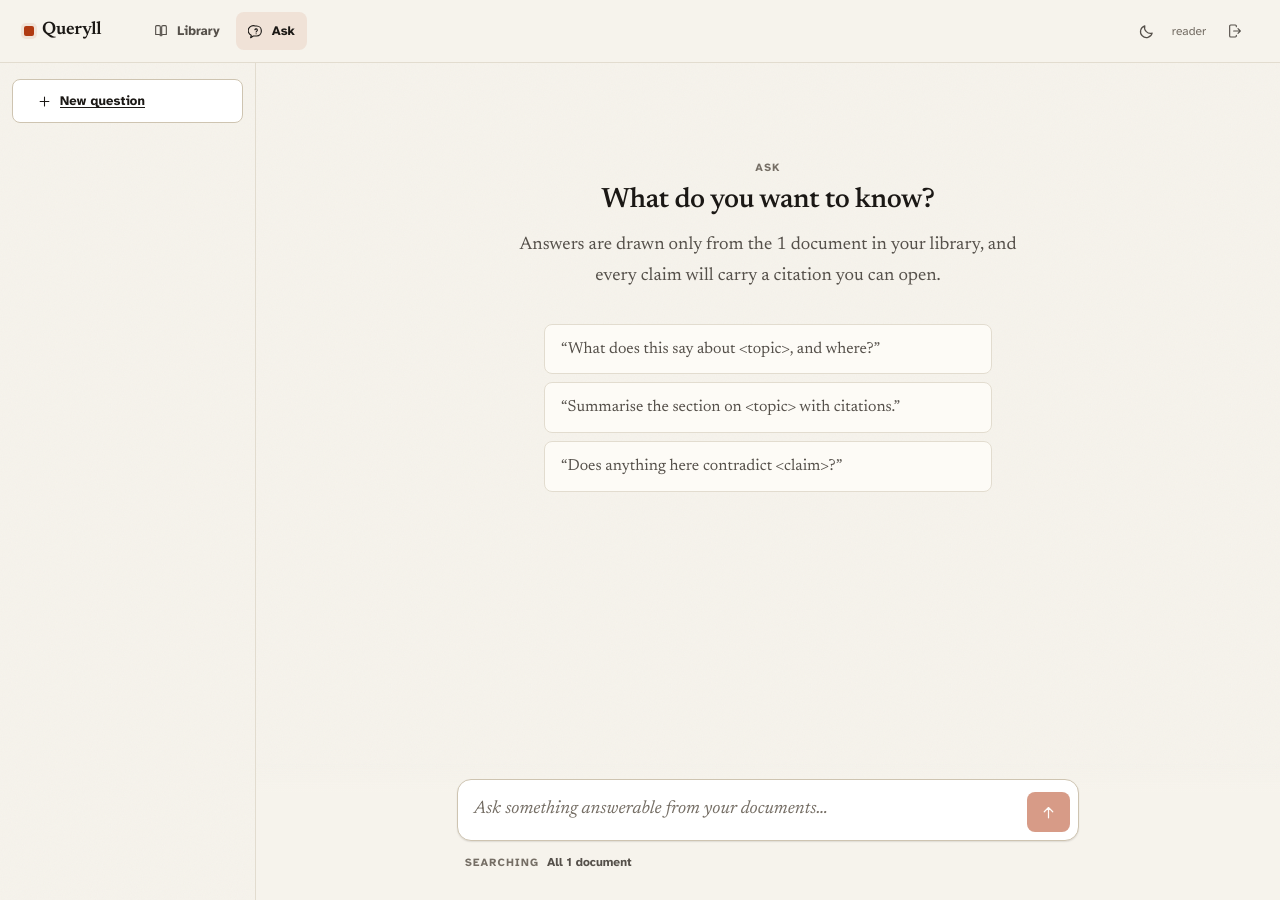
Test case: a half-typed question › survives navigating away and back
Type "What does section 3 say about" into the text box named "Your question" at (743, 810), box [466,788,1019,832]
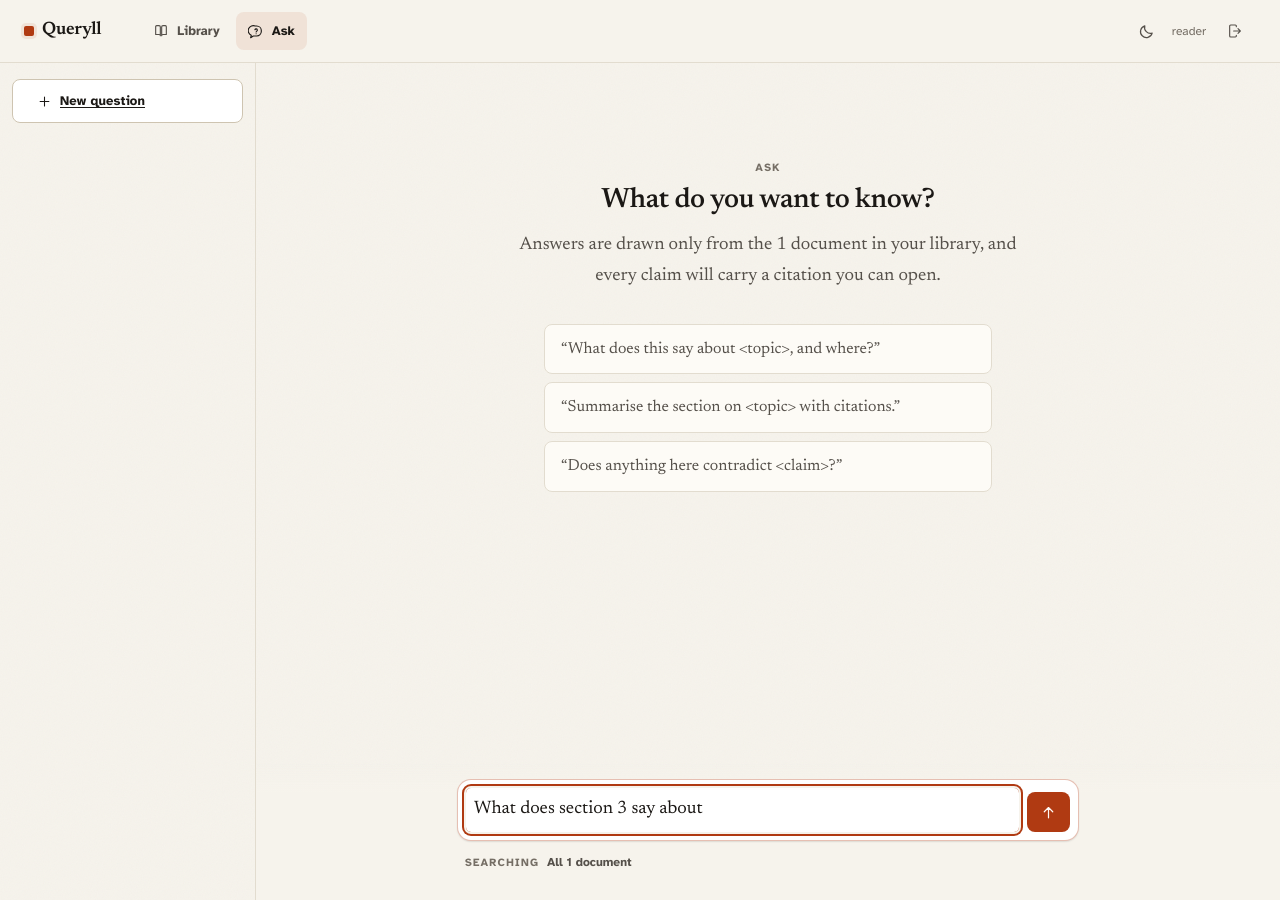
Click the link "Library" at (187, 31), box [153,23,220,39]
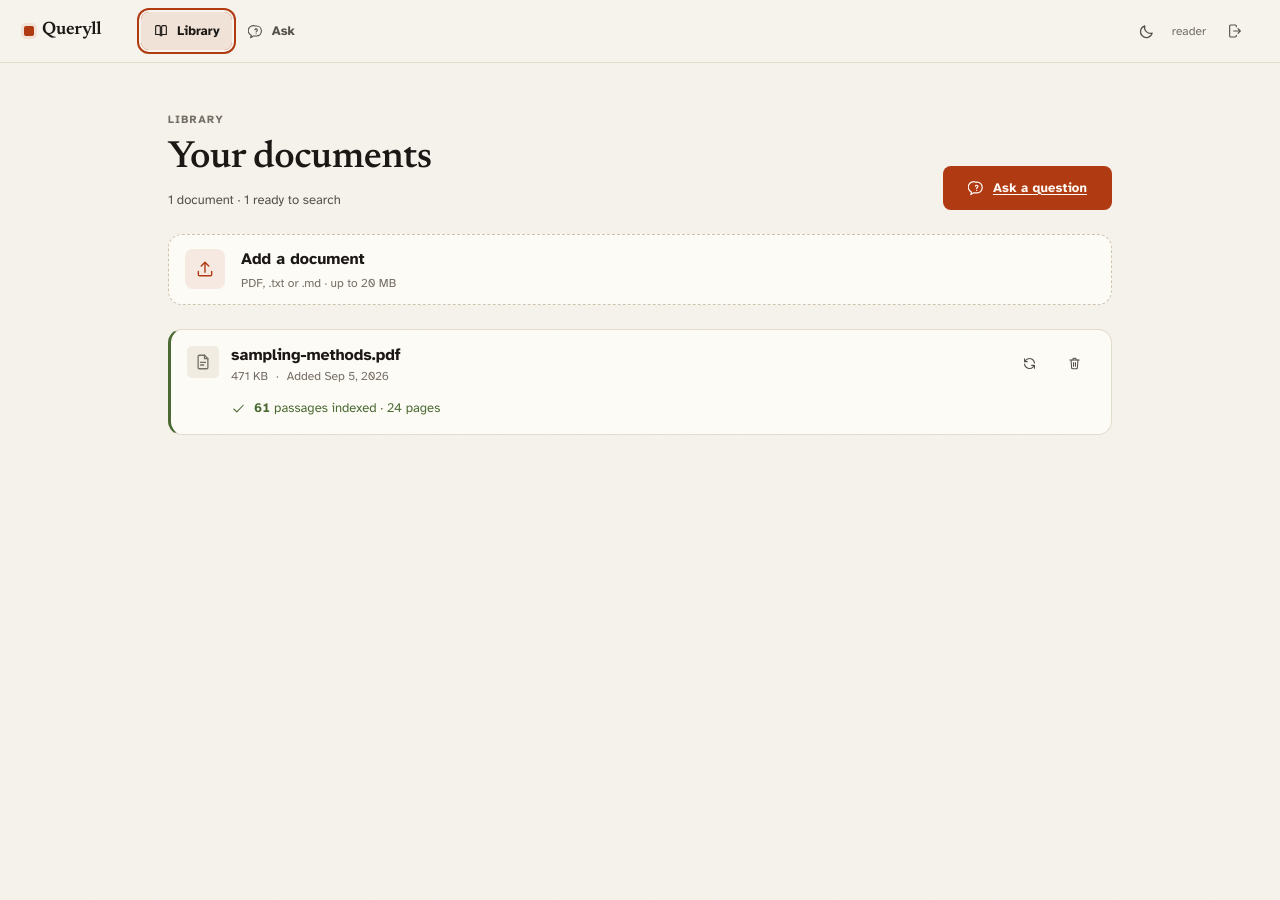
Expected: the heading "Your documents" is shown, [168,136,432,182]
Click the link "Ask" at (271, 31), box [248,23,295,39]
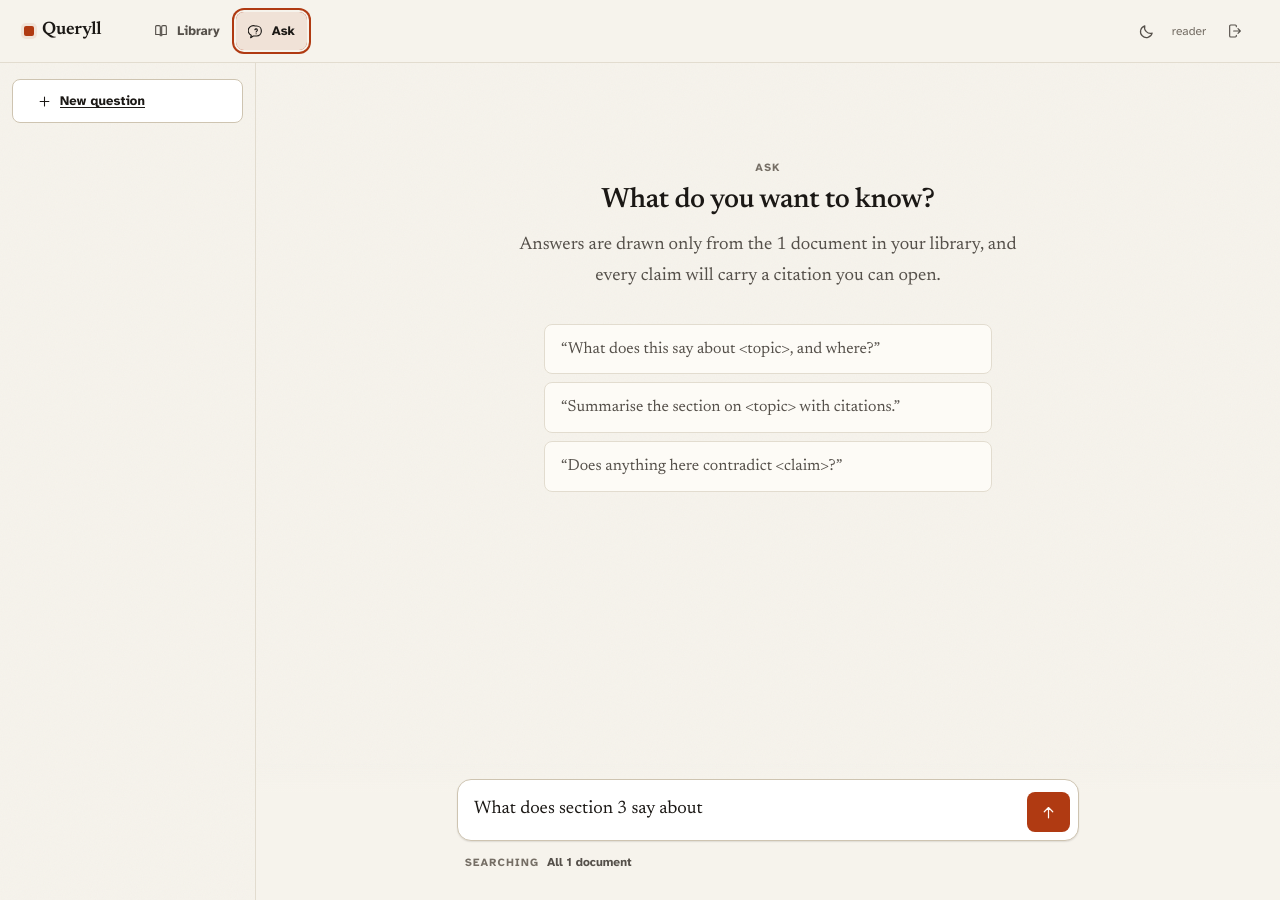
Expected: the text box named "Your question" holds "What does section 3 say about", [466,788,1019,832]
